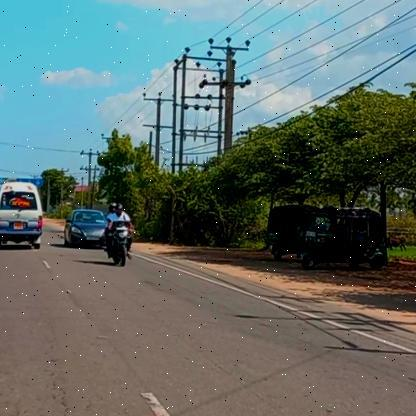motorcycle: (98, 220, 136, 268)
